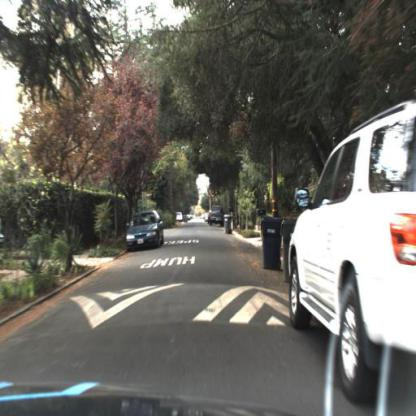car: (290, 101, 416, 400), (125, 210, 164, 252), (206, 205, 227, 229), (176, 210, 186, 224)
